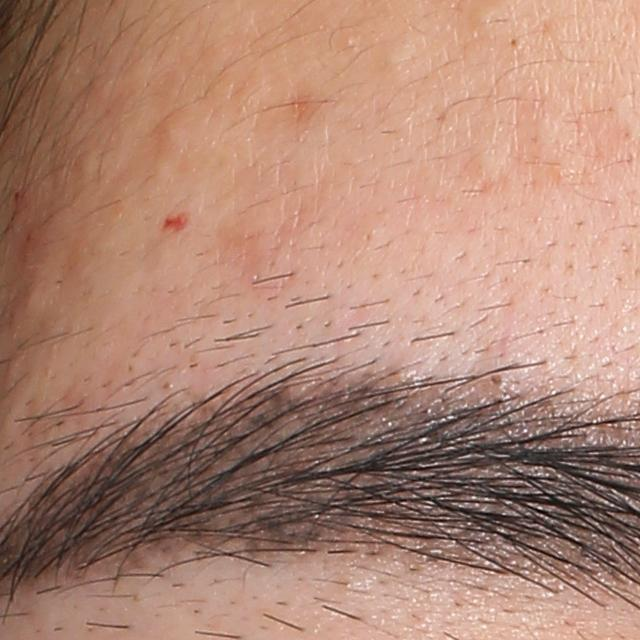comedo: (146, 101, 202, 172), (367, 33, 418, 89), (463, 147, 507, 197), (506, 34, 527, 59)
